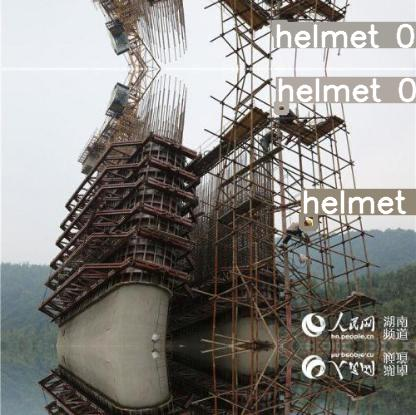helmet: (301, 214, 315, 228), (274, 22, 286, 35), (276, 102, 286, 112)
